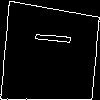I: (25, 29, 72, 47)
